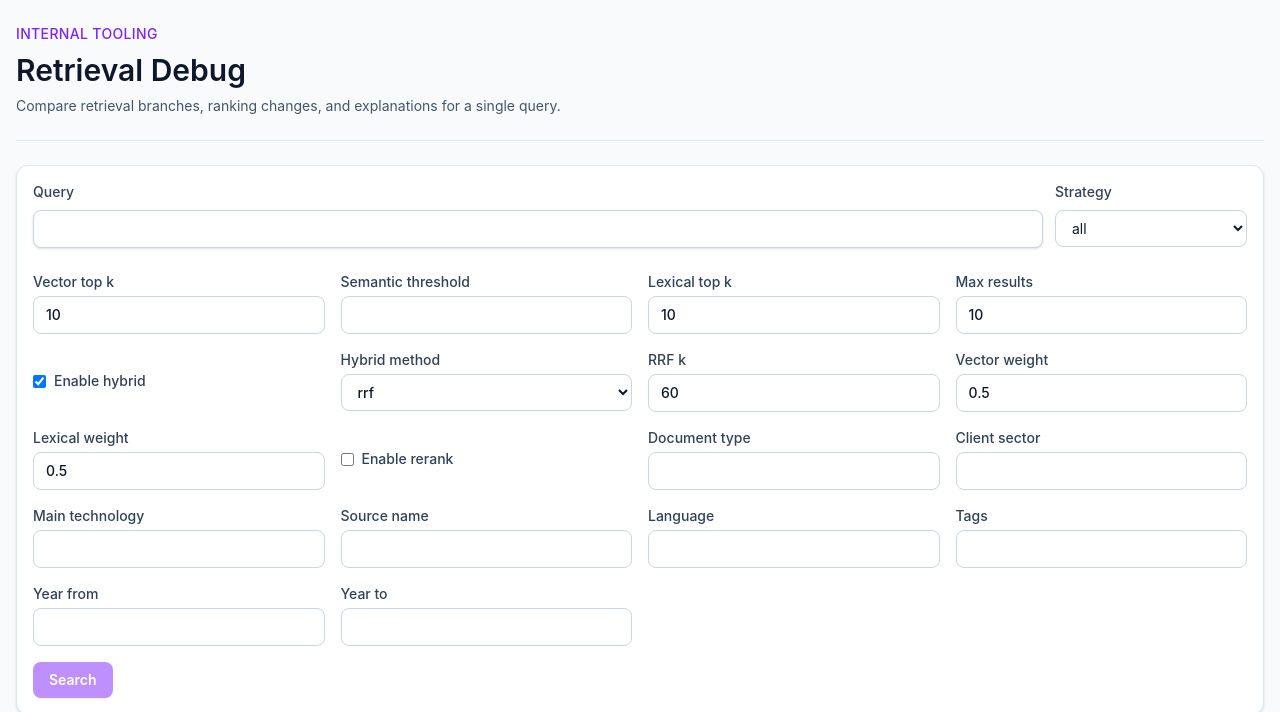
RetrievalDebugPage › renders a friendly API error state
Type "OAuth backend" into the search field labelled "Query" at point(538, 229), box 33,210 -> 1043,248
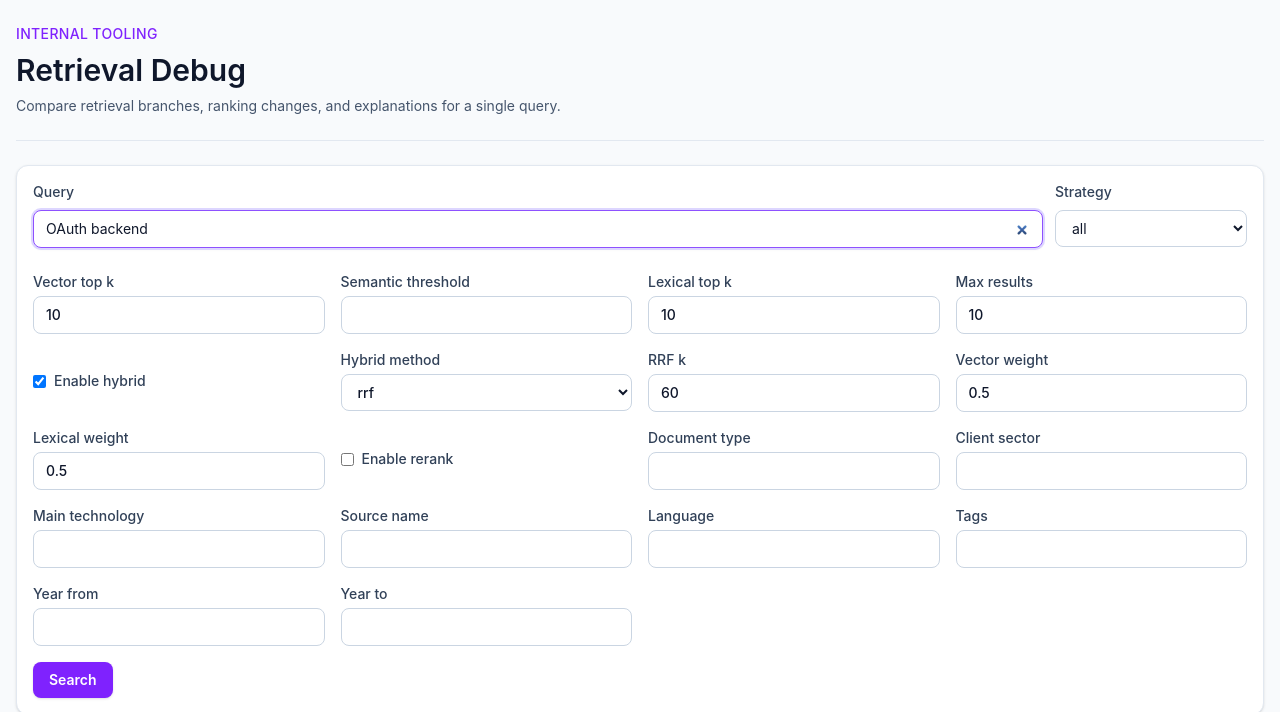
Click the button "Search" at point(73, 680), box 33,662 -> 112,698
(page scrolled)
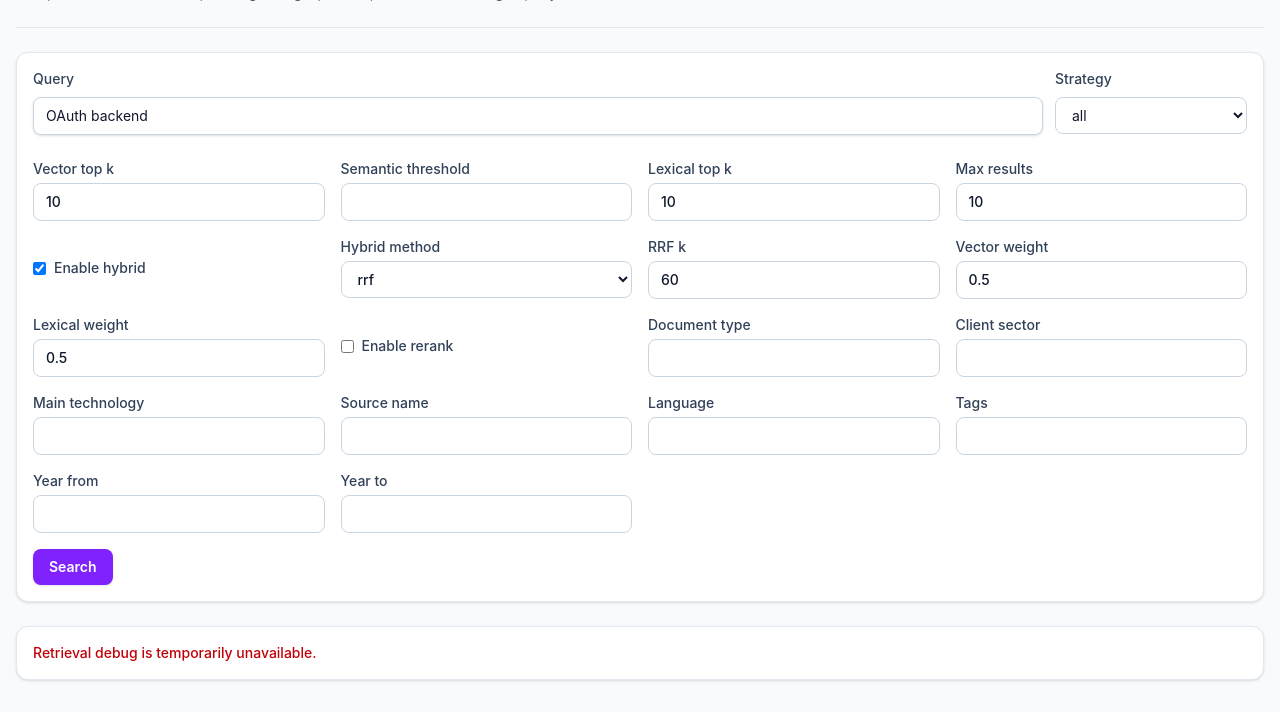
Expected: the text "Retrieval debug is temporarily unavailable." is shown, 33,644 -> 316,661
